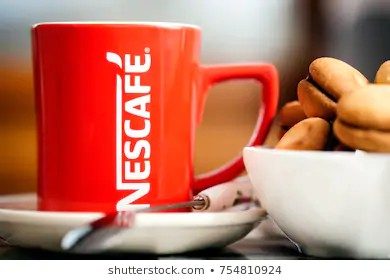nescafe-mug: (32, 20, 281, 212)
